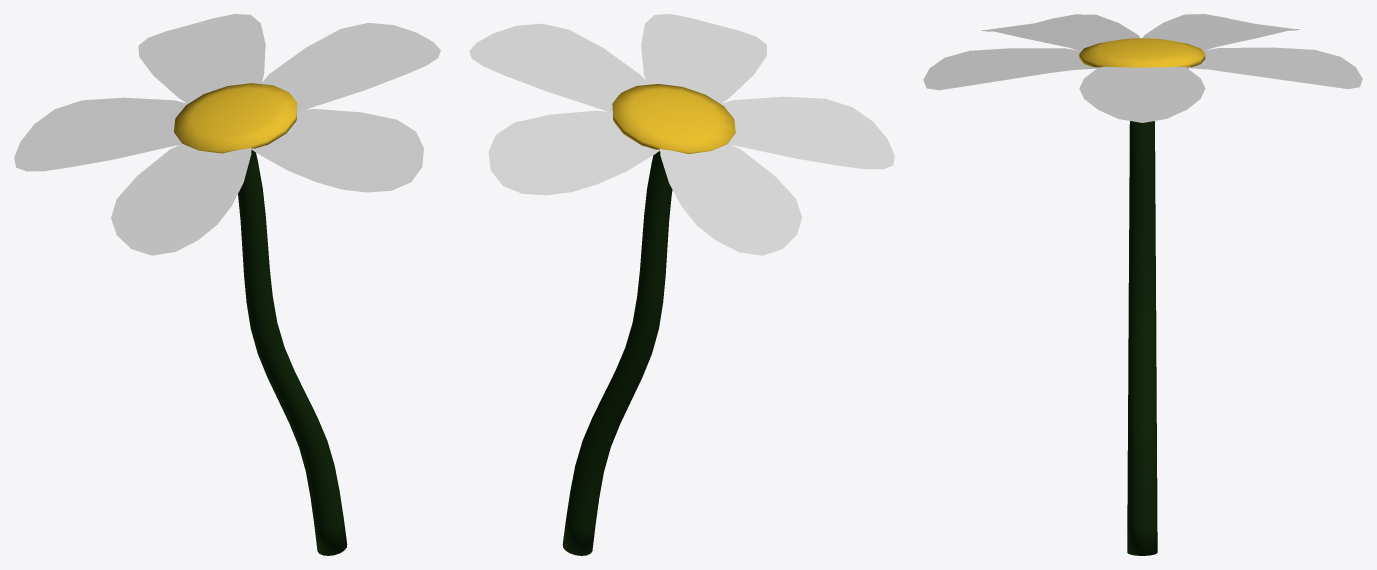
The model's file is low_poly_flower.glb.
3 renders of one model, left to right at view 1: azimuth 30°, elevation 25°; view 2: azimuth 150°, elevation 25°; view 3: azimuth 270°, elevation 25°, orthographic.
Visible parts, largest first — view 1: Flower; view 2: Flower; view 3: Flower.
Boxes of the visible parts, bbox=[...] form: Flower: bbox=[14, 14, 440, 555]; Flower: bbox=[469, 14, 894, 555]; Flower: bbox=[923, 14, 1362, 555].
Bounding box in the file's own units: 1.04 × 1.34 × 1.09.
